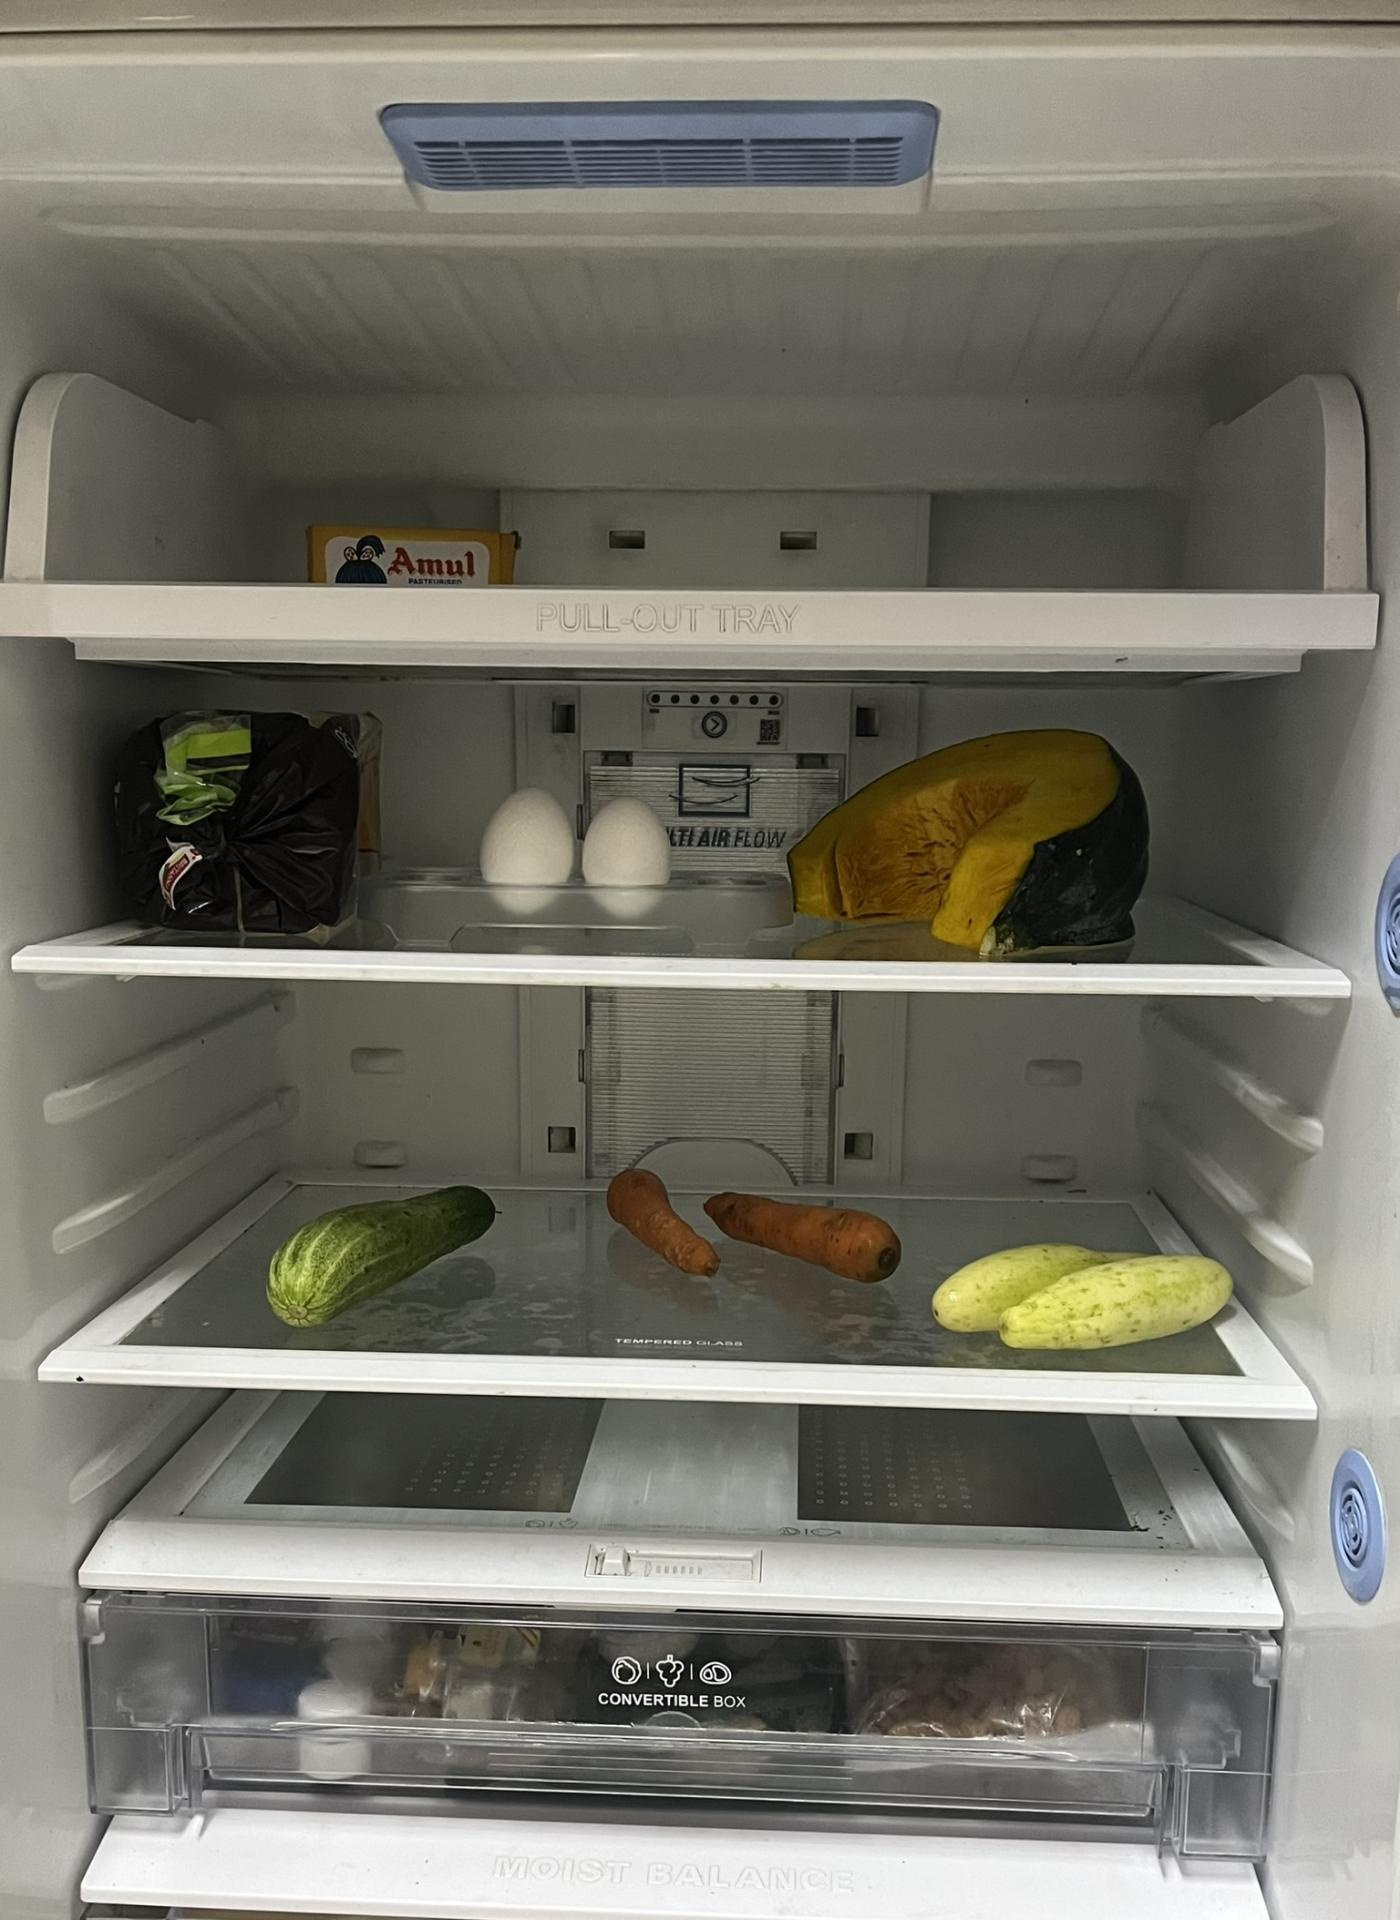bread: (133, 723, 386, 941)
butter: (304, 522, 519, 590)
carrots: (698, 1185, 898, 1285), (607, 1161, 717, 1288)
cucumber: (268, 1182, 505, 1333), (930, 1242, 1248, 1354)
egg: (489, 786, 671, 915)
pumpkin: (775, 717, 1150, 951)
